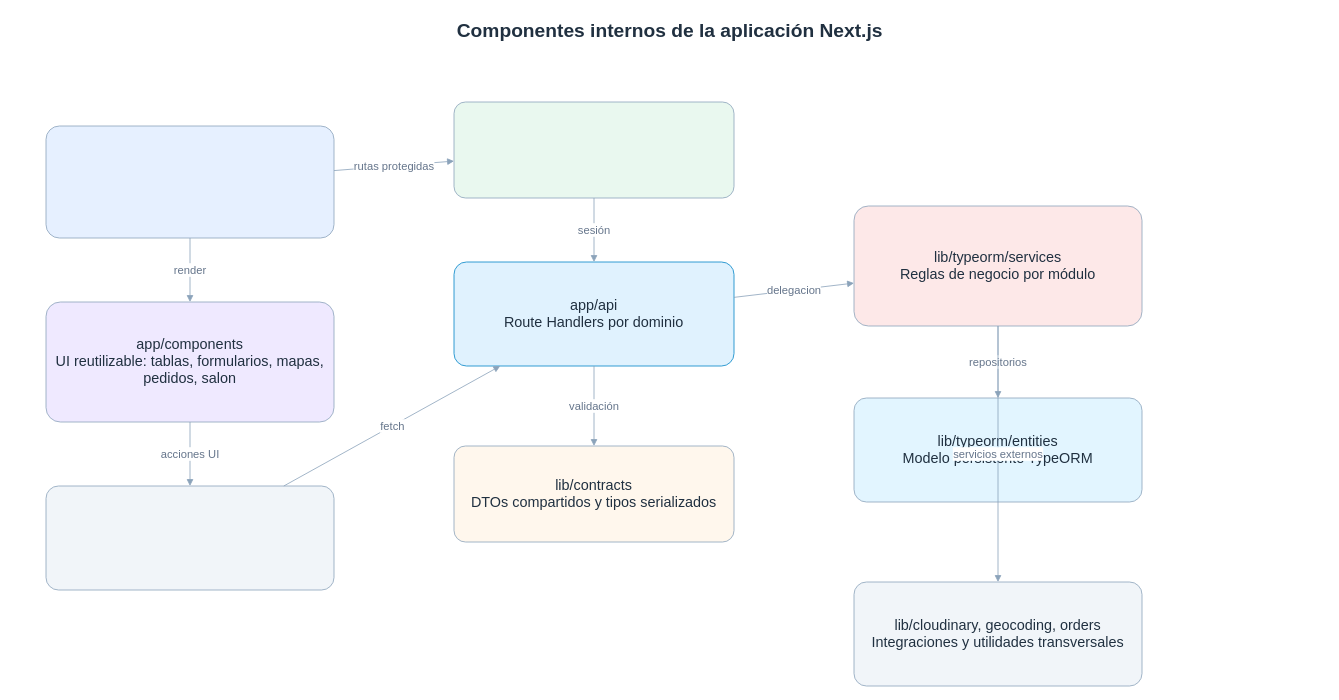
Some shapes in this 1339 by 700 pixel diagram are drawn without their labels. Each missing label, with the box of its shape:
app/admin, app/commercials, app/clients Páginas por rol y rutas dinámicas: (45, 125, 334, 238)
hooks y cliente API requestJson, estados, filtros e interaccion: (45, 485, 334, 590)
proxy.ts Control de acceso, navegador y rate limiting: (453, 101, 734, 198)
